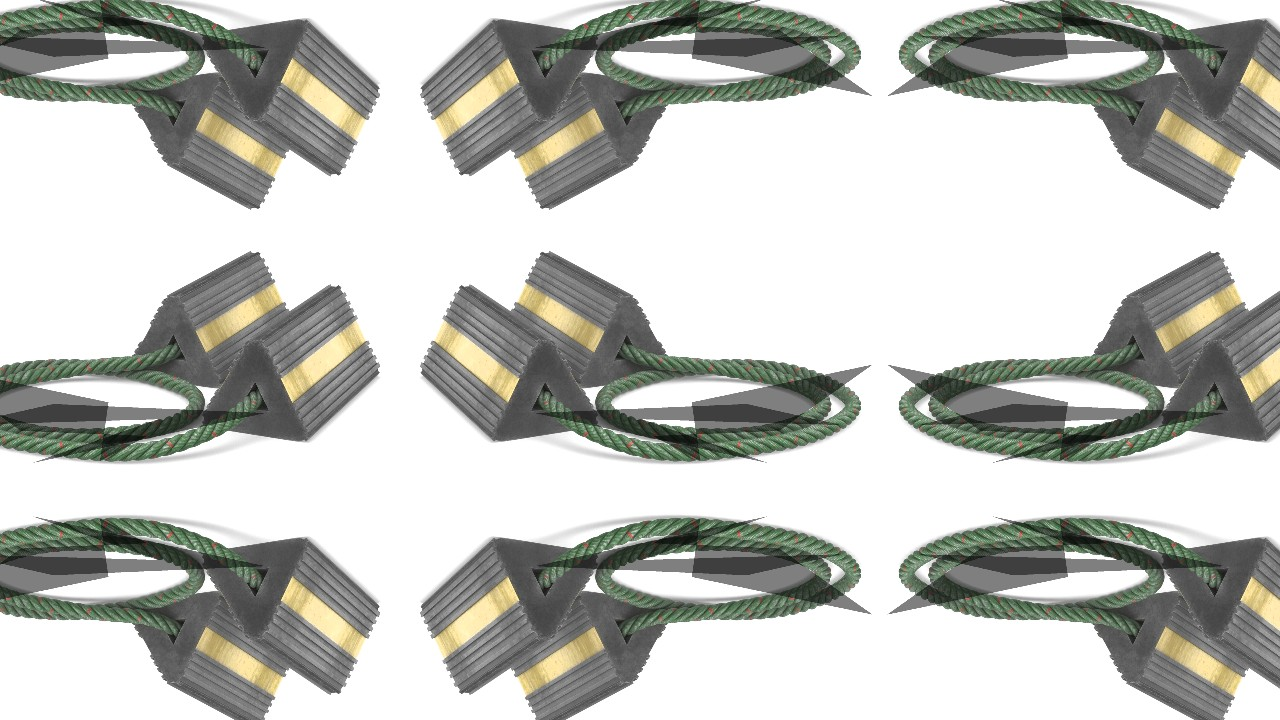chock: (202, 18, 381, 179), (419, 18, 598, 179), (202, 281, 381, 442), (419, 281, 598, 442), (202, 537, 381, 698), (419, 537, 598, 698), (126, 71, 290, 210), (510, 71, 674, 210), (1086, 71, 1250, 210), (126, 251, 290, 389), (510, 251, 674, 389), (1086, 251, 1250, 389), (126, 590, 290, 720), (510, 590, 674, 720), (1086, 590, 1250, 720), (1162, 18, 1280, 179), (1162, 281, 1280, 442), (1162, 537, 1280, 698)
